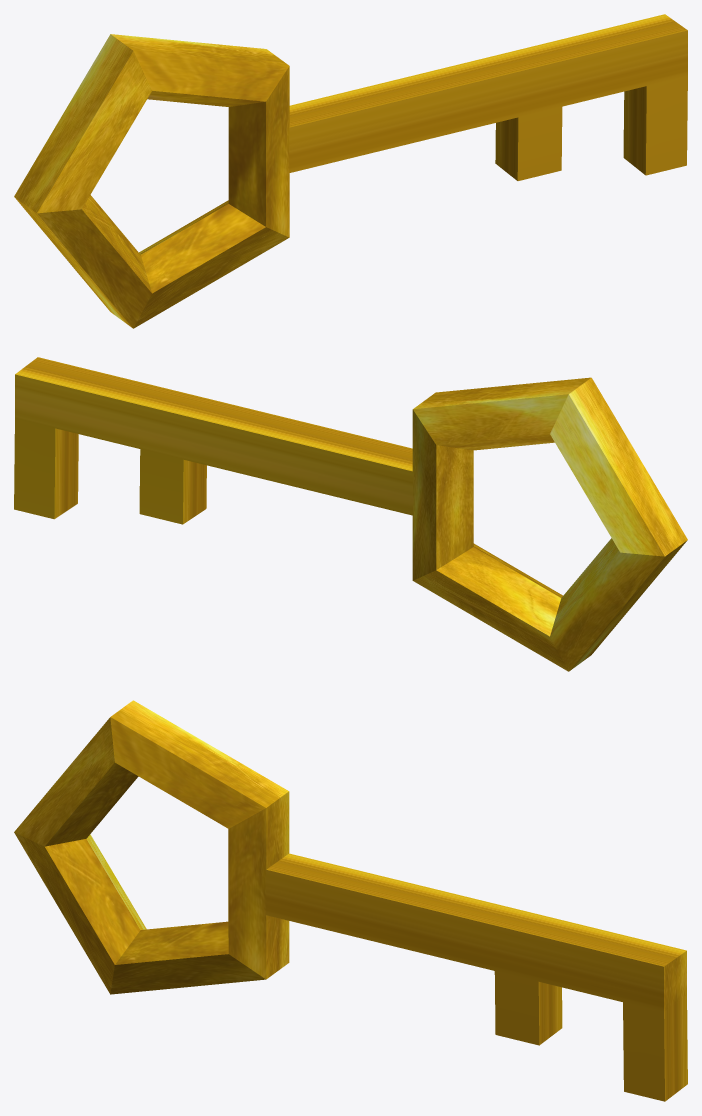
The model's file is Dagur'sDungeonKey.fbx.
3 views of the same model, one above another, from view 1: azimuth 30°, elevation 25°; view 2: azimuth 150°, elevation 25°; view 3: azimuth 330°, elevation 25° (orthographic).
Parts seen in each view (by area): view 1: pKey; view 2: pKey; view 3: pKey.
Boxes of the visible parts, x1,y1,x2,y2 form: pKey: (14,14,687,328); pKey: (14,357,687,671); pKey: (14,700,687,1101).
Bounding box in the file's own units: 48.16 × 19.65 × 4.76.
Materials: 1 (1 with a texture image).
